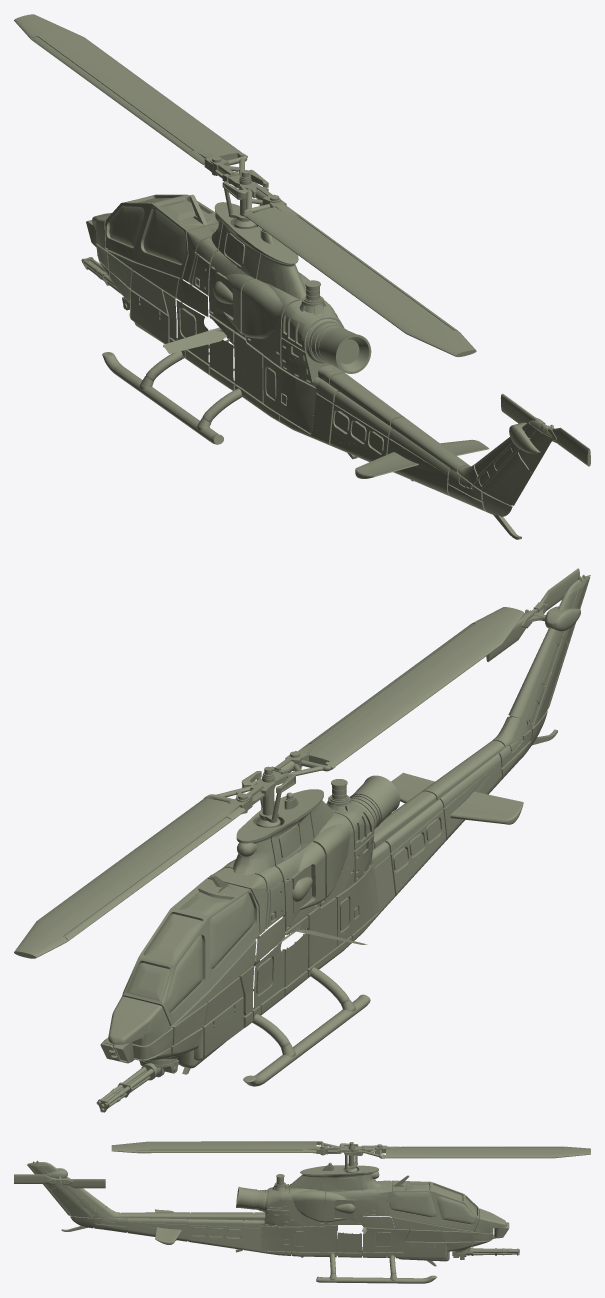
3 renders of one model, top to bottom at view 1: azimuth 30°, elevation 25°; view 2: azimuth 150°, elevation 25°; view 3: azimuth 270°, elevation 25°, orthographic. The views are drawn at different scales.
Visible parts, largest first — view 1: A_ah1s; view 2: A_ah1s; view 3: A_ah1s.
Part boxes in pixels (box(x1,y1,x2,y2)): A_ah1s: box(14, 14, 590, 539); A_ah1s: box(14, 568, 590, 1112); A_ah1s: box(14, 1141, 590, 1283).
Size of the model in its own units: 7.19 by 10.84 by 45.2.
1 material, 1 textured.
